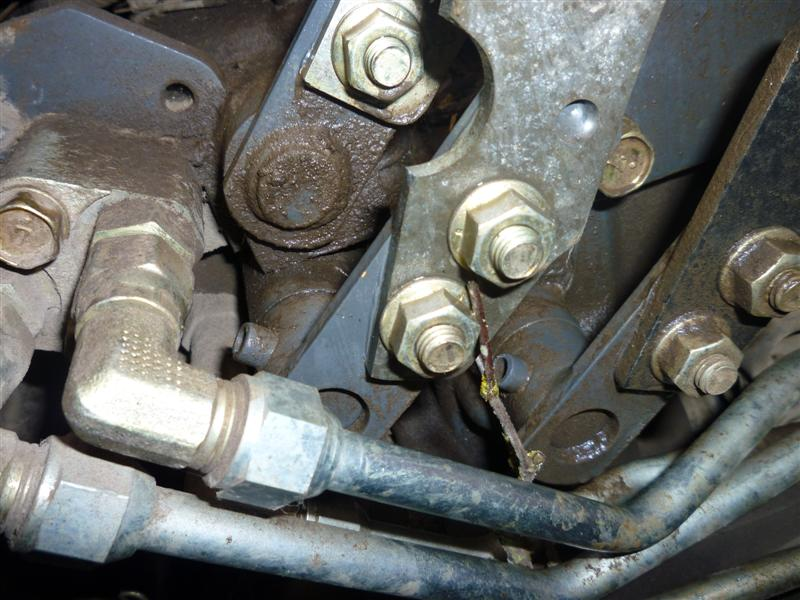bolt_a: (583, 113, 657, 201), (2, 187, 66, 277)
bolt_b: (455, 184, 558, 295), (336, 5, 429, 110), (388, 287, 482, 386), (659, 314, 747, 407), (728, 229, 798, 324)
